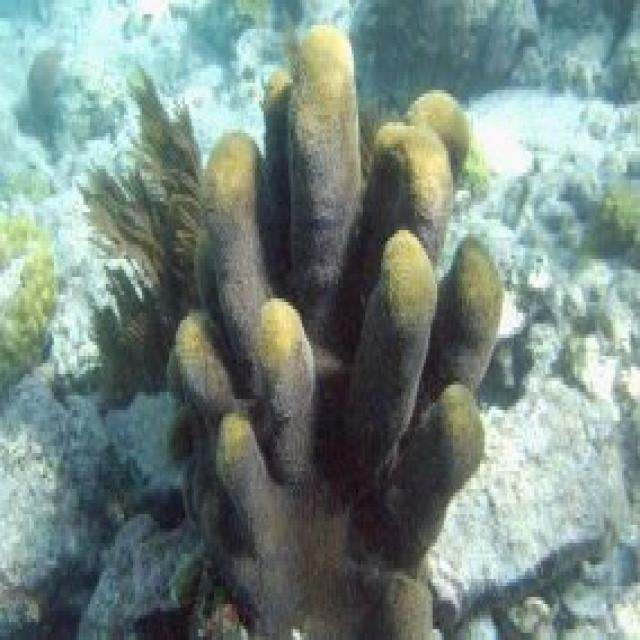Coral: (174, 26, 504, 640)
